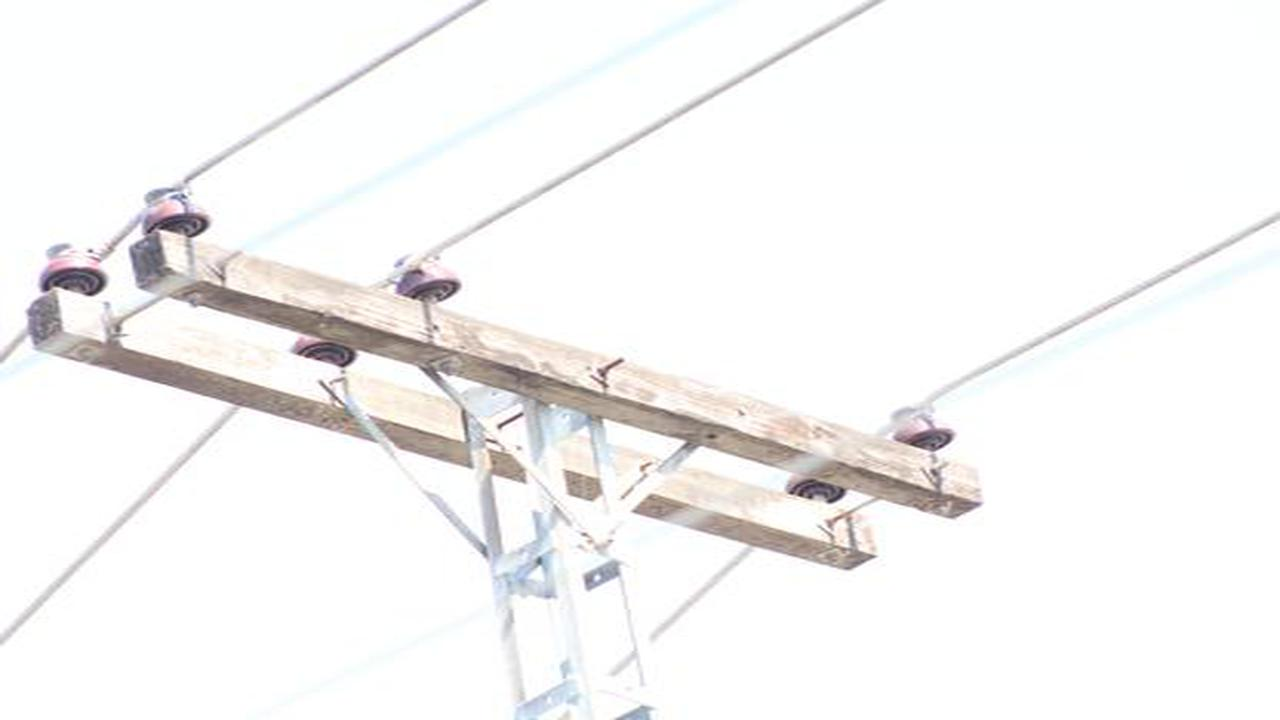insulator_pin: (390, 245, 465, 307), (137, 184, 215, 241), (34, 240, 111, 295), (886, 400, 958, 455)
